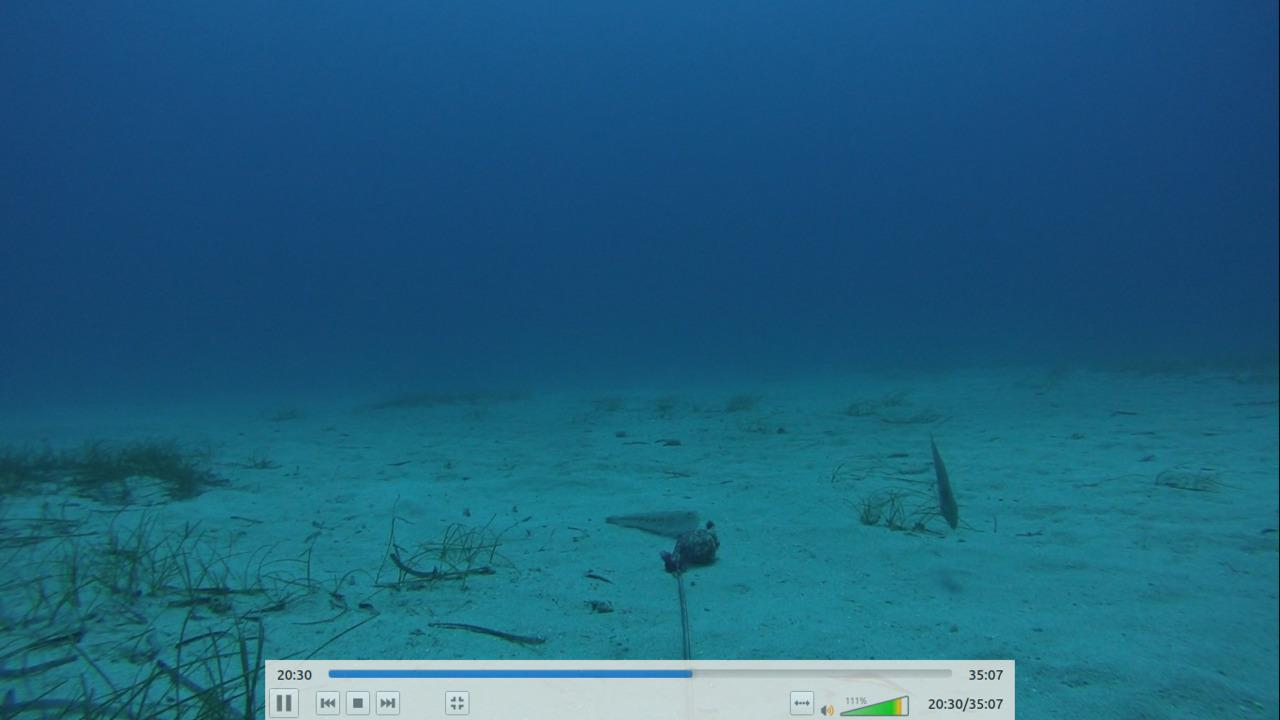raor: (926, 433, 967, 538)
